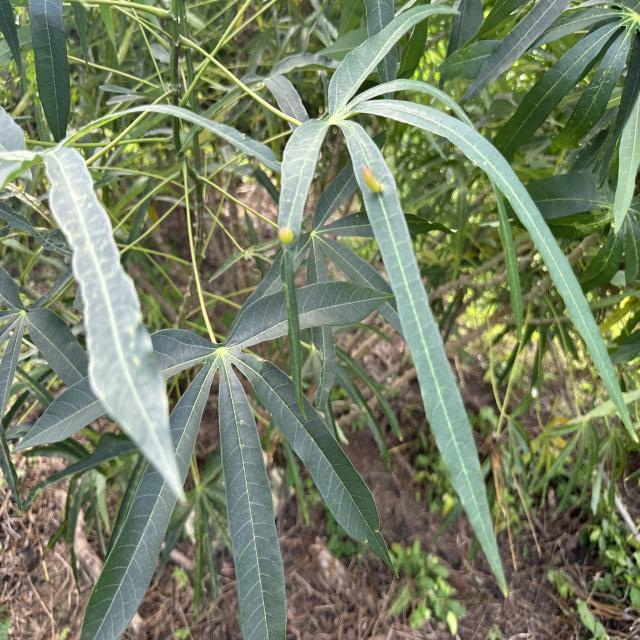Mosca: (344, 155, 397, 208), (266, 211, 298, 256)
